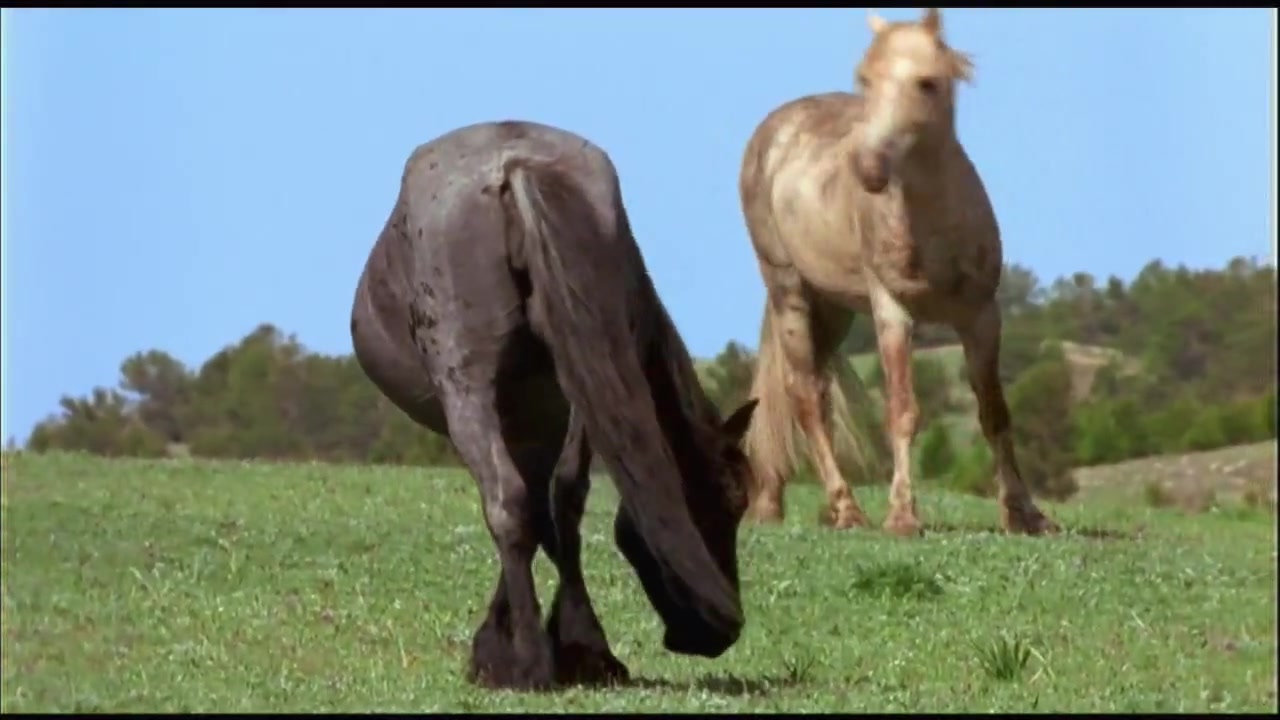horse: (348, 118, 764, 693)
